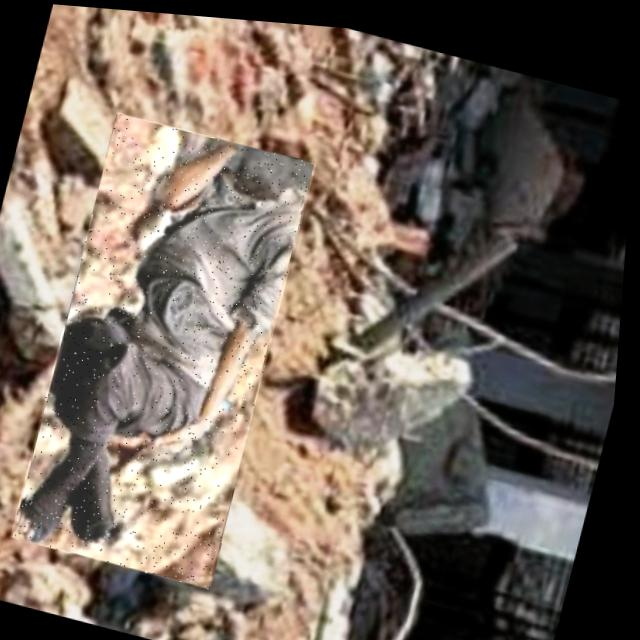Person in Rubble: (15, 105, 319, 589)
